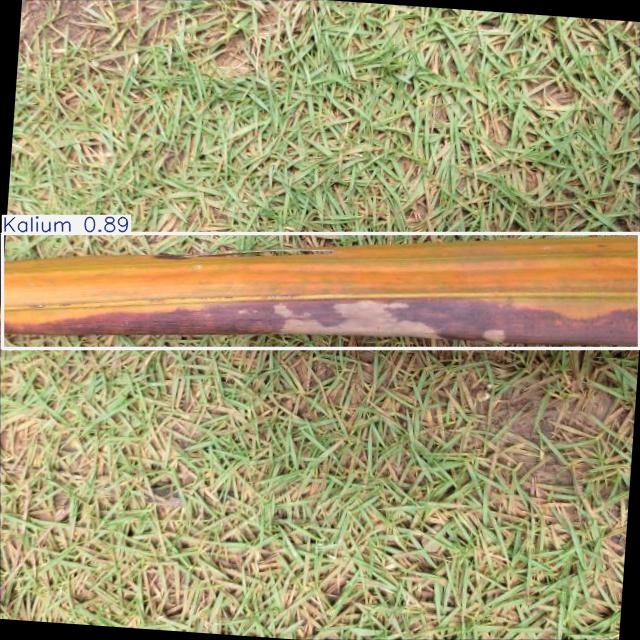Kalium: (2, 234, 639, 349)
